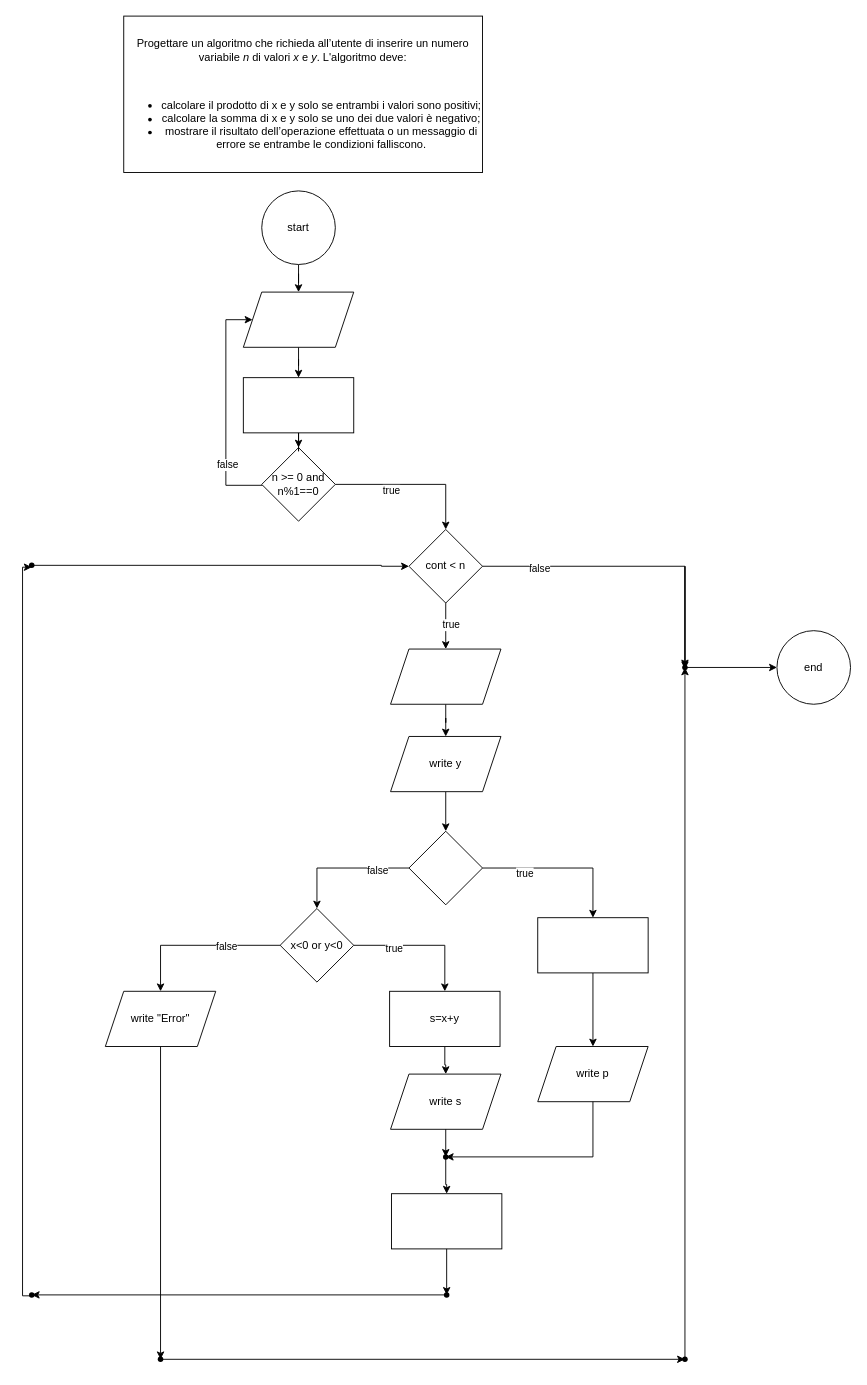
Image size: 867x1385. Some labels were removed from this diagram. The box of each missing label's shape, as (x1, y1, x2, y2) in pixels:
cont += 1: (391, 1193, 502, 1249)
cont = 0, p = 0, s = 0: (242, 377, 354, 433)
p=x*y: (537, 917, 648, 973)
read n: (242, 291, 354, 347)
read x: (390, 648, 501, 704)
x>0 and y>0: (408, 830, 483, 905)
